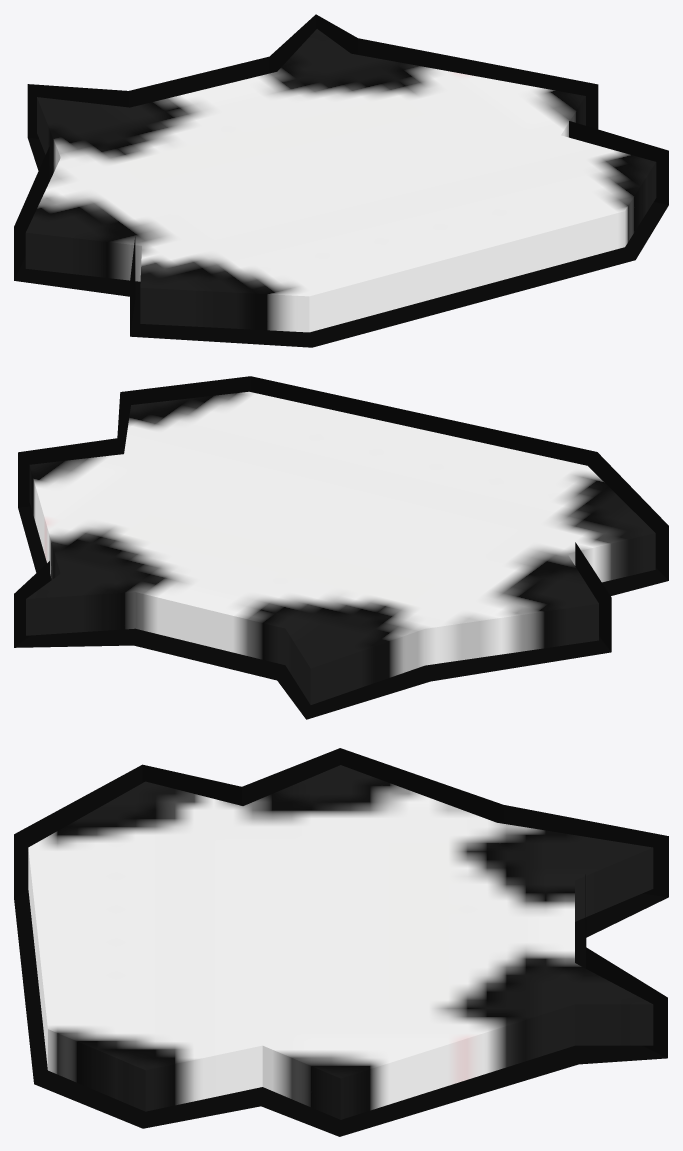
Rendered from Item_Apparel_FlakVest_Things_Pawn_Humanlike_Apparel_FlakVest_FlakVest_Fat.glb.
3 views of the same model, one above another, from view 1: azimuth 30°, elevation 25°; view 2: azimuth 150°, elevation 25°; view 3: azimuth 270°, elevation 25° (orthographic). The views are drawn at different scales.
Parts seen in each view (by area): view 1: Body, Outline; view 2: Body, Outline; view 3: Body, Outline.
Boxes of the visible parts, x1,y1,x2,y2 form: Body: (25, 29, 656, 332); Outline: (14, 14, 668, 347); Body: (26, 391, 655, 704); Outline: (14, 376, 668, 719); Body: (28, 765, 653, 1119); Outline: (14, 748, 668, 1136).
Bounding box in the file's own units: 0.3095 × 0.0319 × 0.2621.
2 materials, 1 textured.
